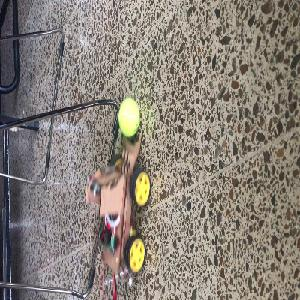Ball: (119, 100, 140, 137)
Robot: (85, 136, 151, 277)
